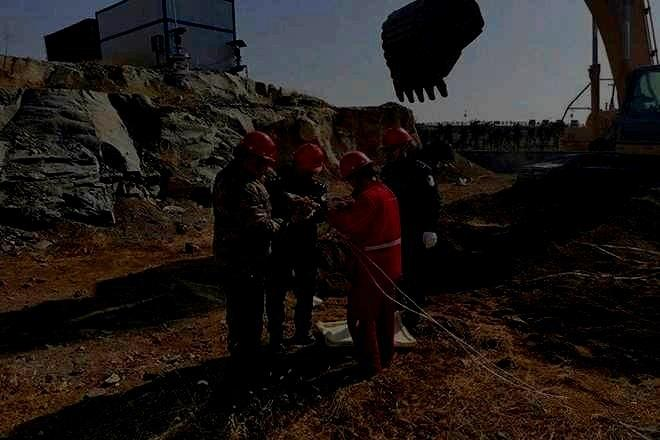helmet: (233, 130, 277, 179), (338, 150, 375, 189), (292, 143, 324, 184), (381, 126, 413, 164)
